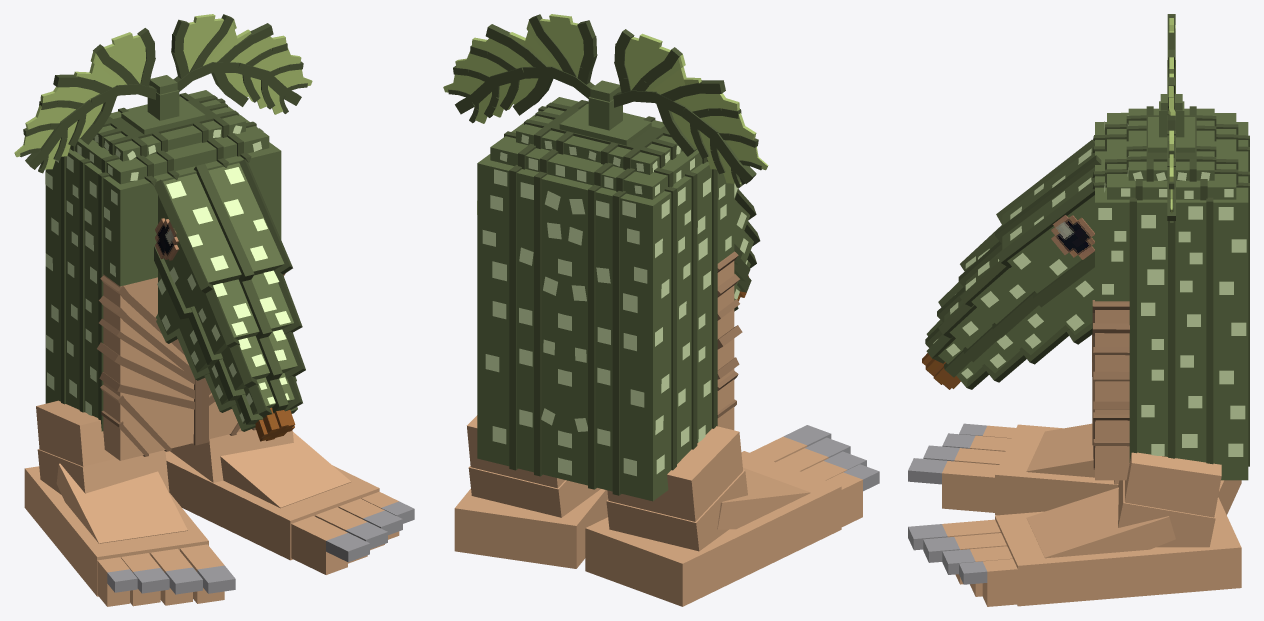
Rendered from tricTricBaraboom.fbx.
3 views of the same model, side by side, from view 1: azimuth 30°, elevation 25°; view 2: azimuth 150°, elevation 25°; view 3: azimuth 270°, elevation 25° (orthographic). The views are drawn at different scales.
Visible parts, largest first — view 1: tricTricBaraboom; view 2: tricTricBaraboom; view 3: tricTricBaraboom.
Boxes of the visible parts, bbox=[...] form: tricTricBaraboom: bbox=[14, 14, 414, 606]; tricTricBaraboom: bbox=[443, 14, 879, 606]; tricTricBaraboom: bbox=[908, 14, 1249, 606].
Bounding box in the file's own units: 414 × 636 × 399.
